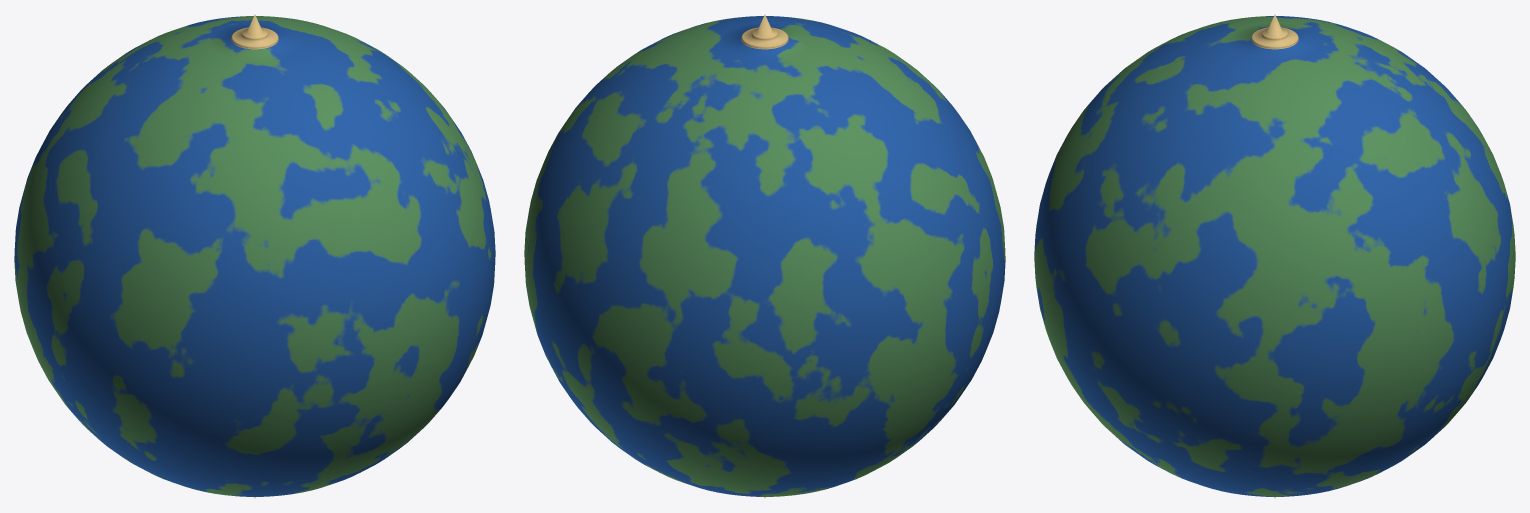
File: GlobeSpherePointy.fbx
3 views of the same model, side by side, from view 1: azimuth 30°, elevation 25°; view 2: azimuth 150°, elevation 25°; view 3: azimuth 270°, elevation 25° (orthographic).
Visible parts, largest first — view 1: Sphere.002_Baked; view 2: Sphere.002_Baked; view 3: Sphere.002_Baked.
Part boxes in pixels (x1=…): Sphere.002_Baked: x1=14, y1=14, x2=495, y2=498; Sphere.002_Baked: x1=524, y1=14, x2=1005, y2=498; Sphere.002_Baked: x1=1034, y1=14, x2=1515, y2=498.
Bounding box in the file's own units: 100 × 111 × 100.
